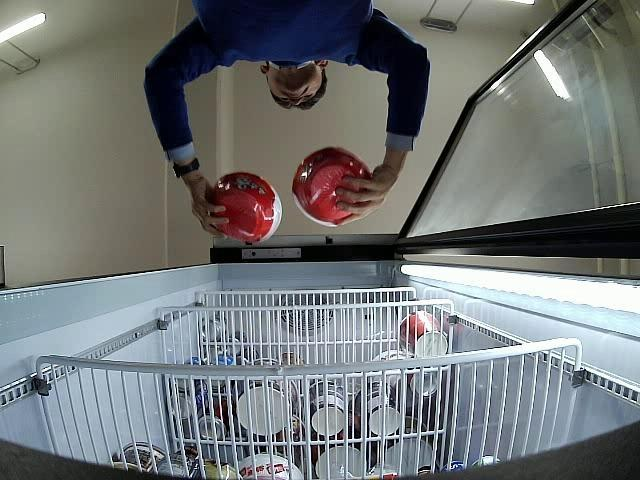10_wangTtukkeong: (292, 147, 372, 226), (211, 172, 282, 244)
